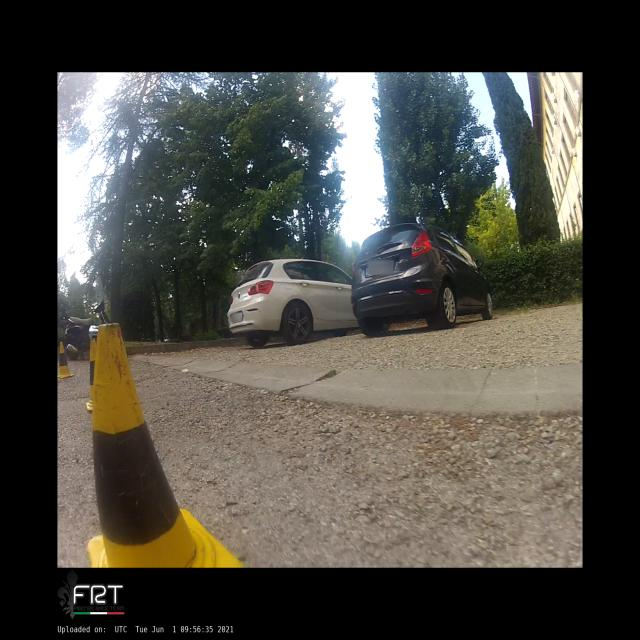yellow_cone: (87, 323, 242, 567), (86, 337, 97, 412), (58, 342, 74, 378)
